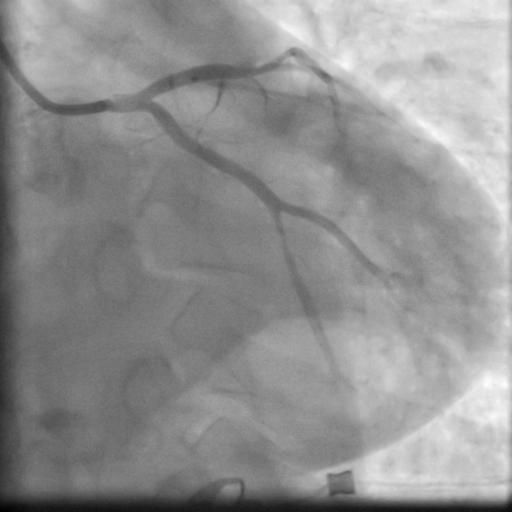Stenosis: (273, 217, 295, 270)
